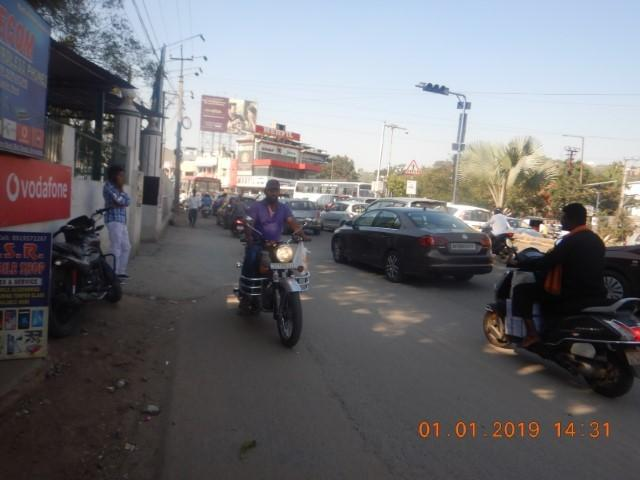plate: (271, 261, 297, 270)
